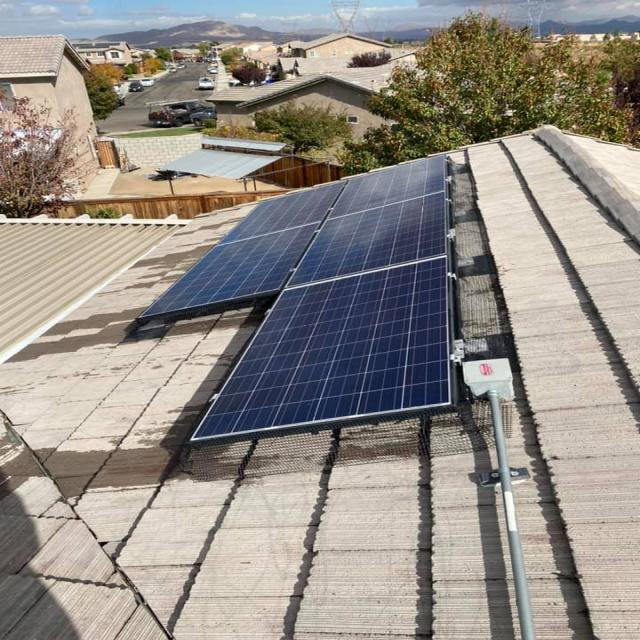dust-solar-panel: (140, 158, 445, 320)
